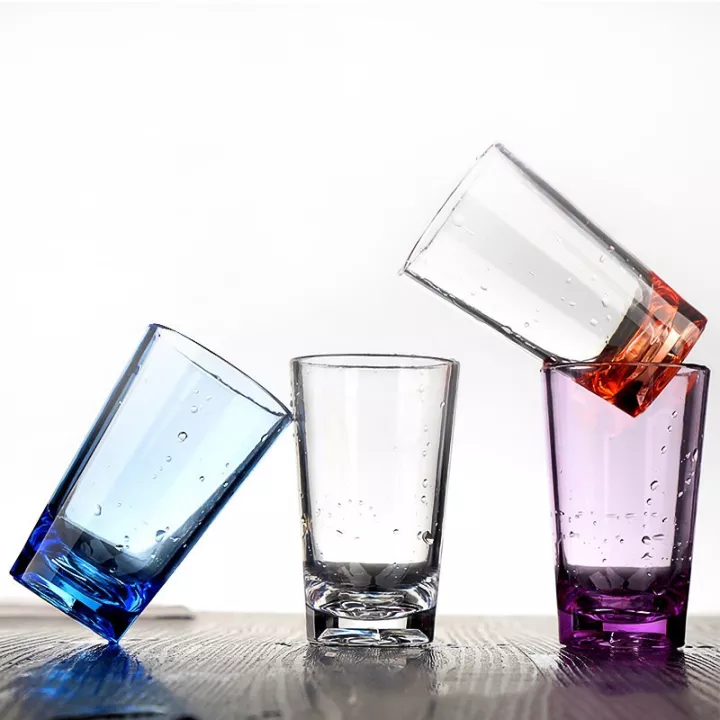plastic_glass: (9, 320, 291, 645), (289, 348, 462, 657), (537, 355, 710, 664)
